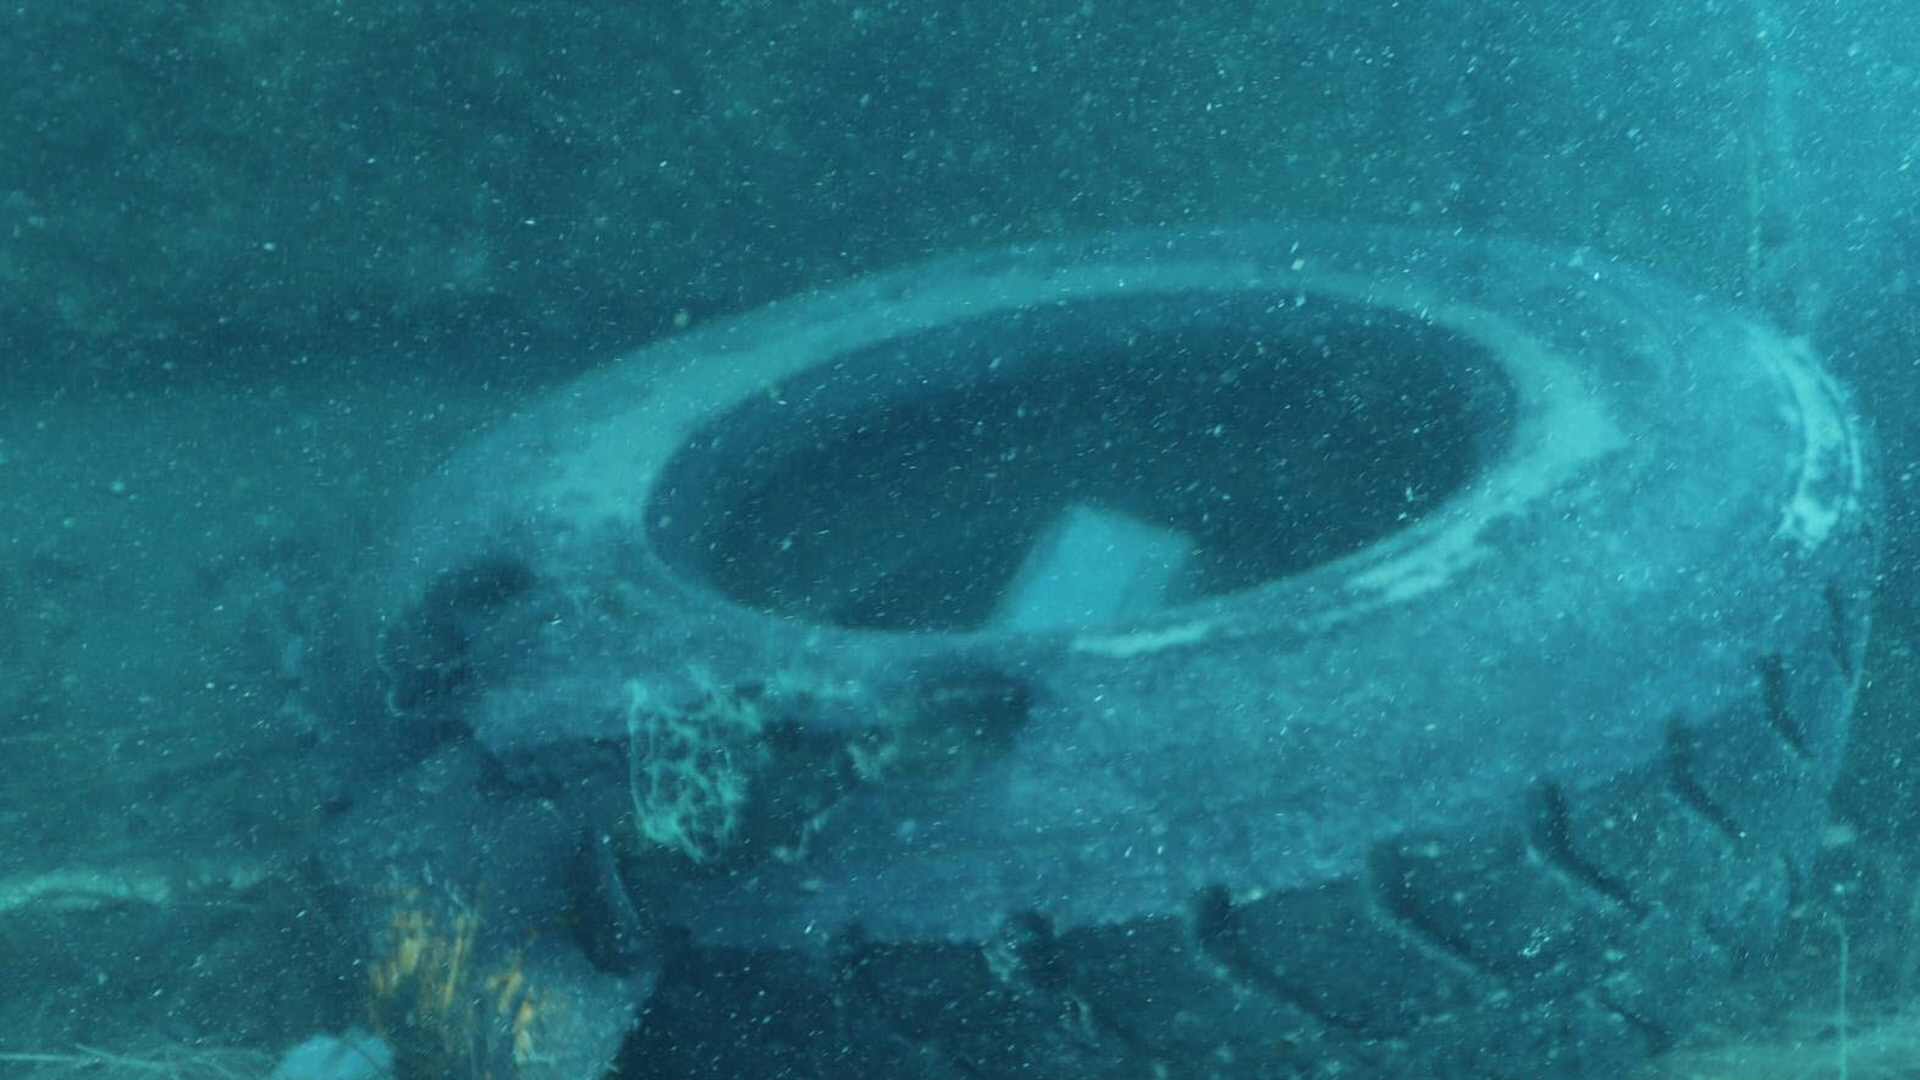tire: (323, 220, 1880, 1080)
